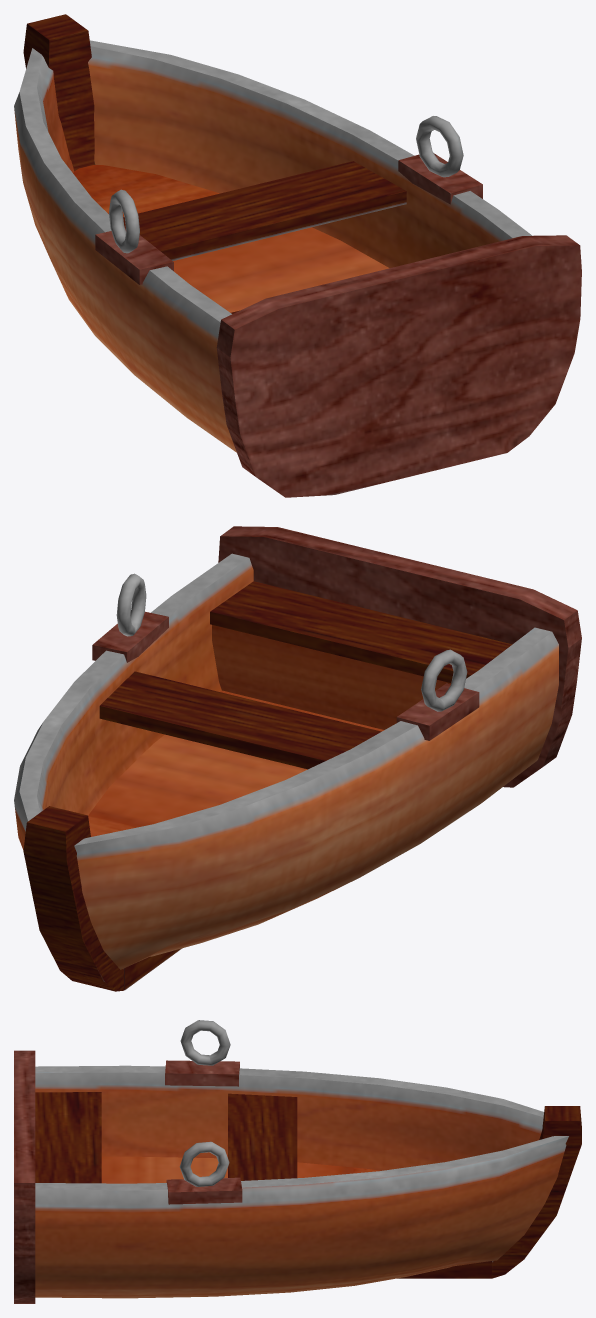
3 views of the same model, one above another, from view 1: azimuth 30°, elevation 25°; view 2: azimuth 150°, elevation 25°; view 3: azimuth 270°, elevation 25° (orthographic). The views are drawn at different scales.
Visible parts, largest first — view 1: boat_Material #25_0; view 2: boat_Material #25_0; view 3: boat_Material #25_0.
Boxes of the visible parts, x1,y1,x2,y2 form: boat_Material #25_0: (14, 14, 581, 497); boat_Material #25_0: (14, 526, 581, 991); boat_Material #25_0: (14, 1020, 581, 1303).
Bounding box in the file's own units: 35.63 × 23.19 × 63.58.
1 material, 1 textured.
